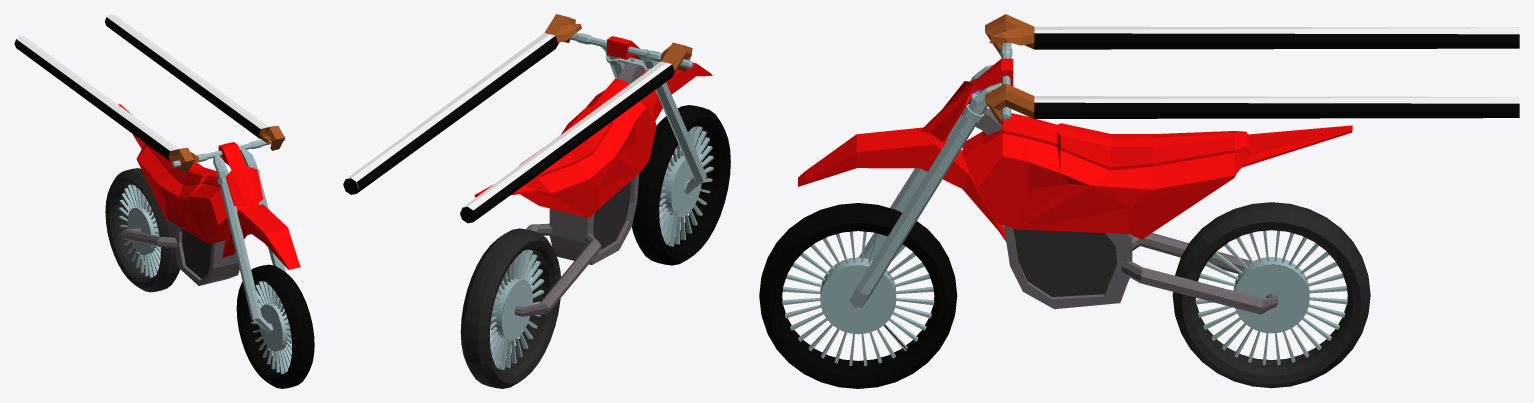
File: bike_with_hand.fbx
The picture shows the model from 3 angles, left to right: view 1: azimuth 30°, elevation 25°; view 2: azimuth 150°, elevation 25°; view 3: azimuth 270°, elevation 25°; orthographic projection. The views are drawn at different scales.
Visible parts, largest first — view 1: Body, F_Wheel, Handle, B_Wheel, arm.R, arm.L, hand.R, hand.L; view 2: Body, B_Wheel, F_Wheel, arm.L, arm.R, Handle, hand.L, hand.R; view 3: Body, B_Wheel, F_Wheel, Handle, arm.L, arm.R, hand.R, hand.L.
Boxes of the visible parts, box(x1,y1,x2,y2) form: Body: box(118, 104, 250, 285); F_Wheel: box(236, 264, 314, 388); Handle: box(172, 136, 300, 333); B_Wheel: box(105, 168, 180, 292); arm.R: box(14, 36, 178, 160); arm.L: box(105, 14, 268, 138); hand.R: box(168, 147, 199, 172); hand.L: box(258, 125, 284, 150); Body: box(474, 57, 656, 316); B_Wheel: box(460, 228, 560, 388); F_Wheel: box(632, 105, 730, 265); arm.L: box(343, 33, 557, 194); arm.R: box(460, 61, 674, 223); Handle: box(569, 33, 712, 193); hand.L: box(544, 14, 581, 47); hand.R: box(660, 42, 692, 76); Body: box(962, 99, 1352, 314); B_Wheel: box(1172, 202, 1370, 388); F_Wheel: box(759, 203, 957, 388); Handle: box(798, 42, 1013, 307); arm.L: box(1034, 96, 1519, 118); arm.R: box(1034, 26, 1519, 49); hand.R: box(985, 14, 1034, 54); hand.L: box(985, 83, 1034, 123).
Size of the model in its own units: 118 by 213 by 441.
8 materials, 8 textured.
